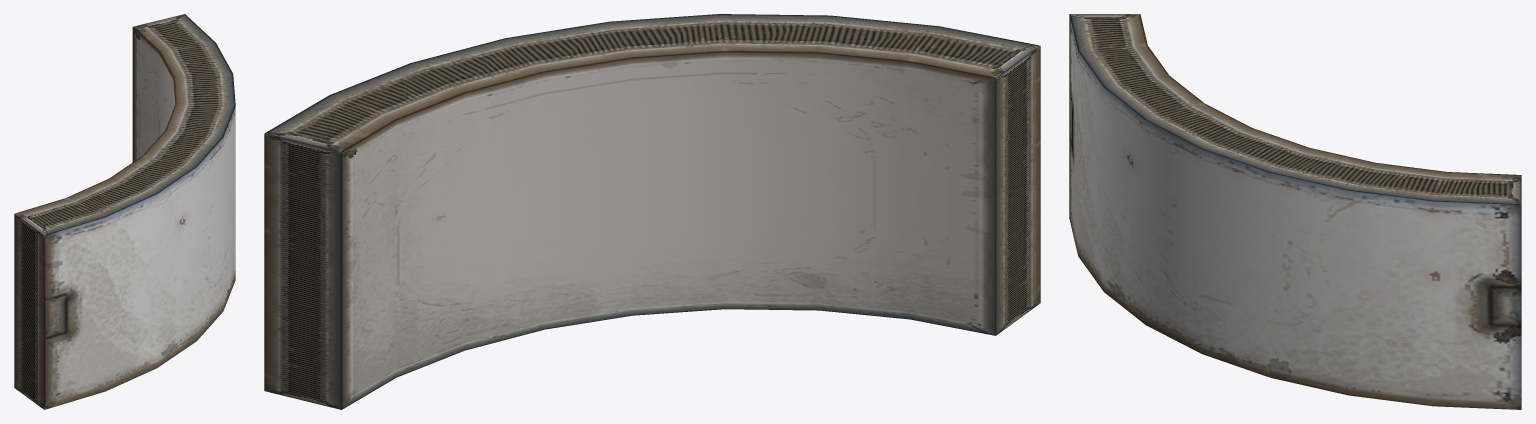
File: scifi_wall_curve1_half_3.FBX
3 views of the same model, side by side, from view 1: azimuth 30°, elevation 25°; view 2: azimuth 150°, elevation 25°; view 3: azimuth 270°, elevation 25° (orthographic). The views are drawn at different scales.
Parts seen in each view (by area): view 1: half009; view 2: half009; view 3: half009.
Part boxes in pixels (<box>): half009: <box>14,14,235,409</box>; half009: <box>264,14,1040,409</box>; half009: <box>1069,14,1521,409</box>.
Size of the model in its own units: 254 by 127 by 254.
